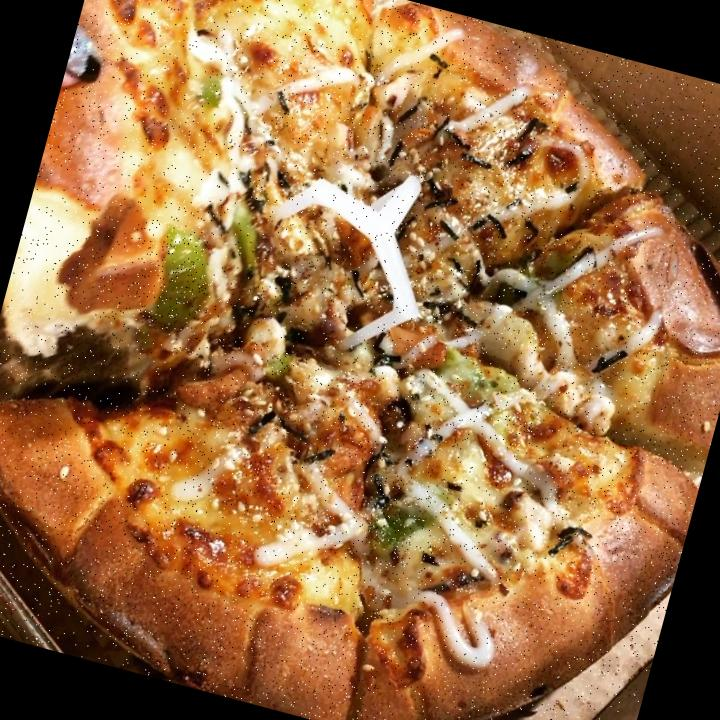Peppers: (127, 217, 228, 338), (364, 471, 461, 563), (206, 192, 278, 286), (476, 250, 556, 322), (437, 345, 510, 402), (258, 346, 295, 382)
Pizza: (0, 0, 720, 720)
